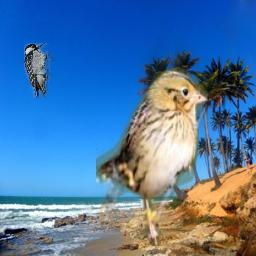Sparrow: (96, 68, 209, 246)
Woodpecker: (24, 43, 54, 98)
